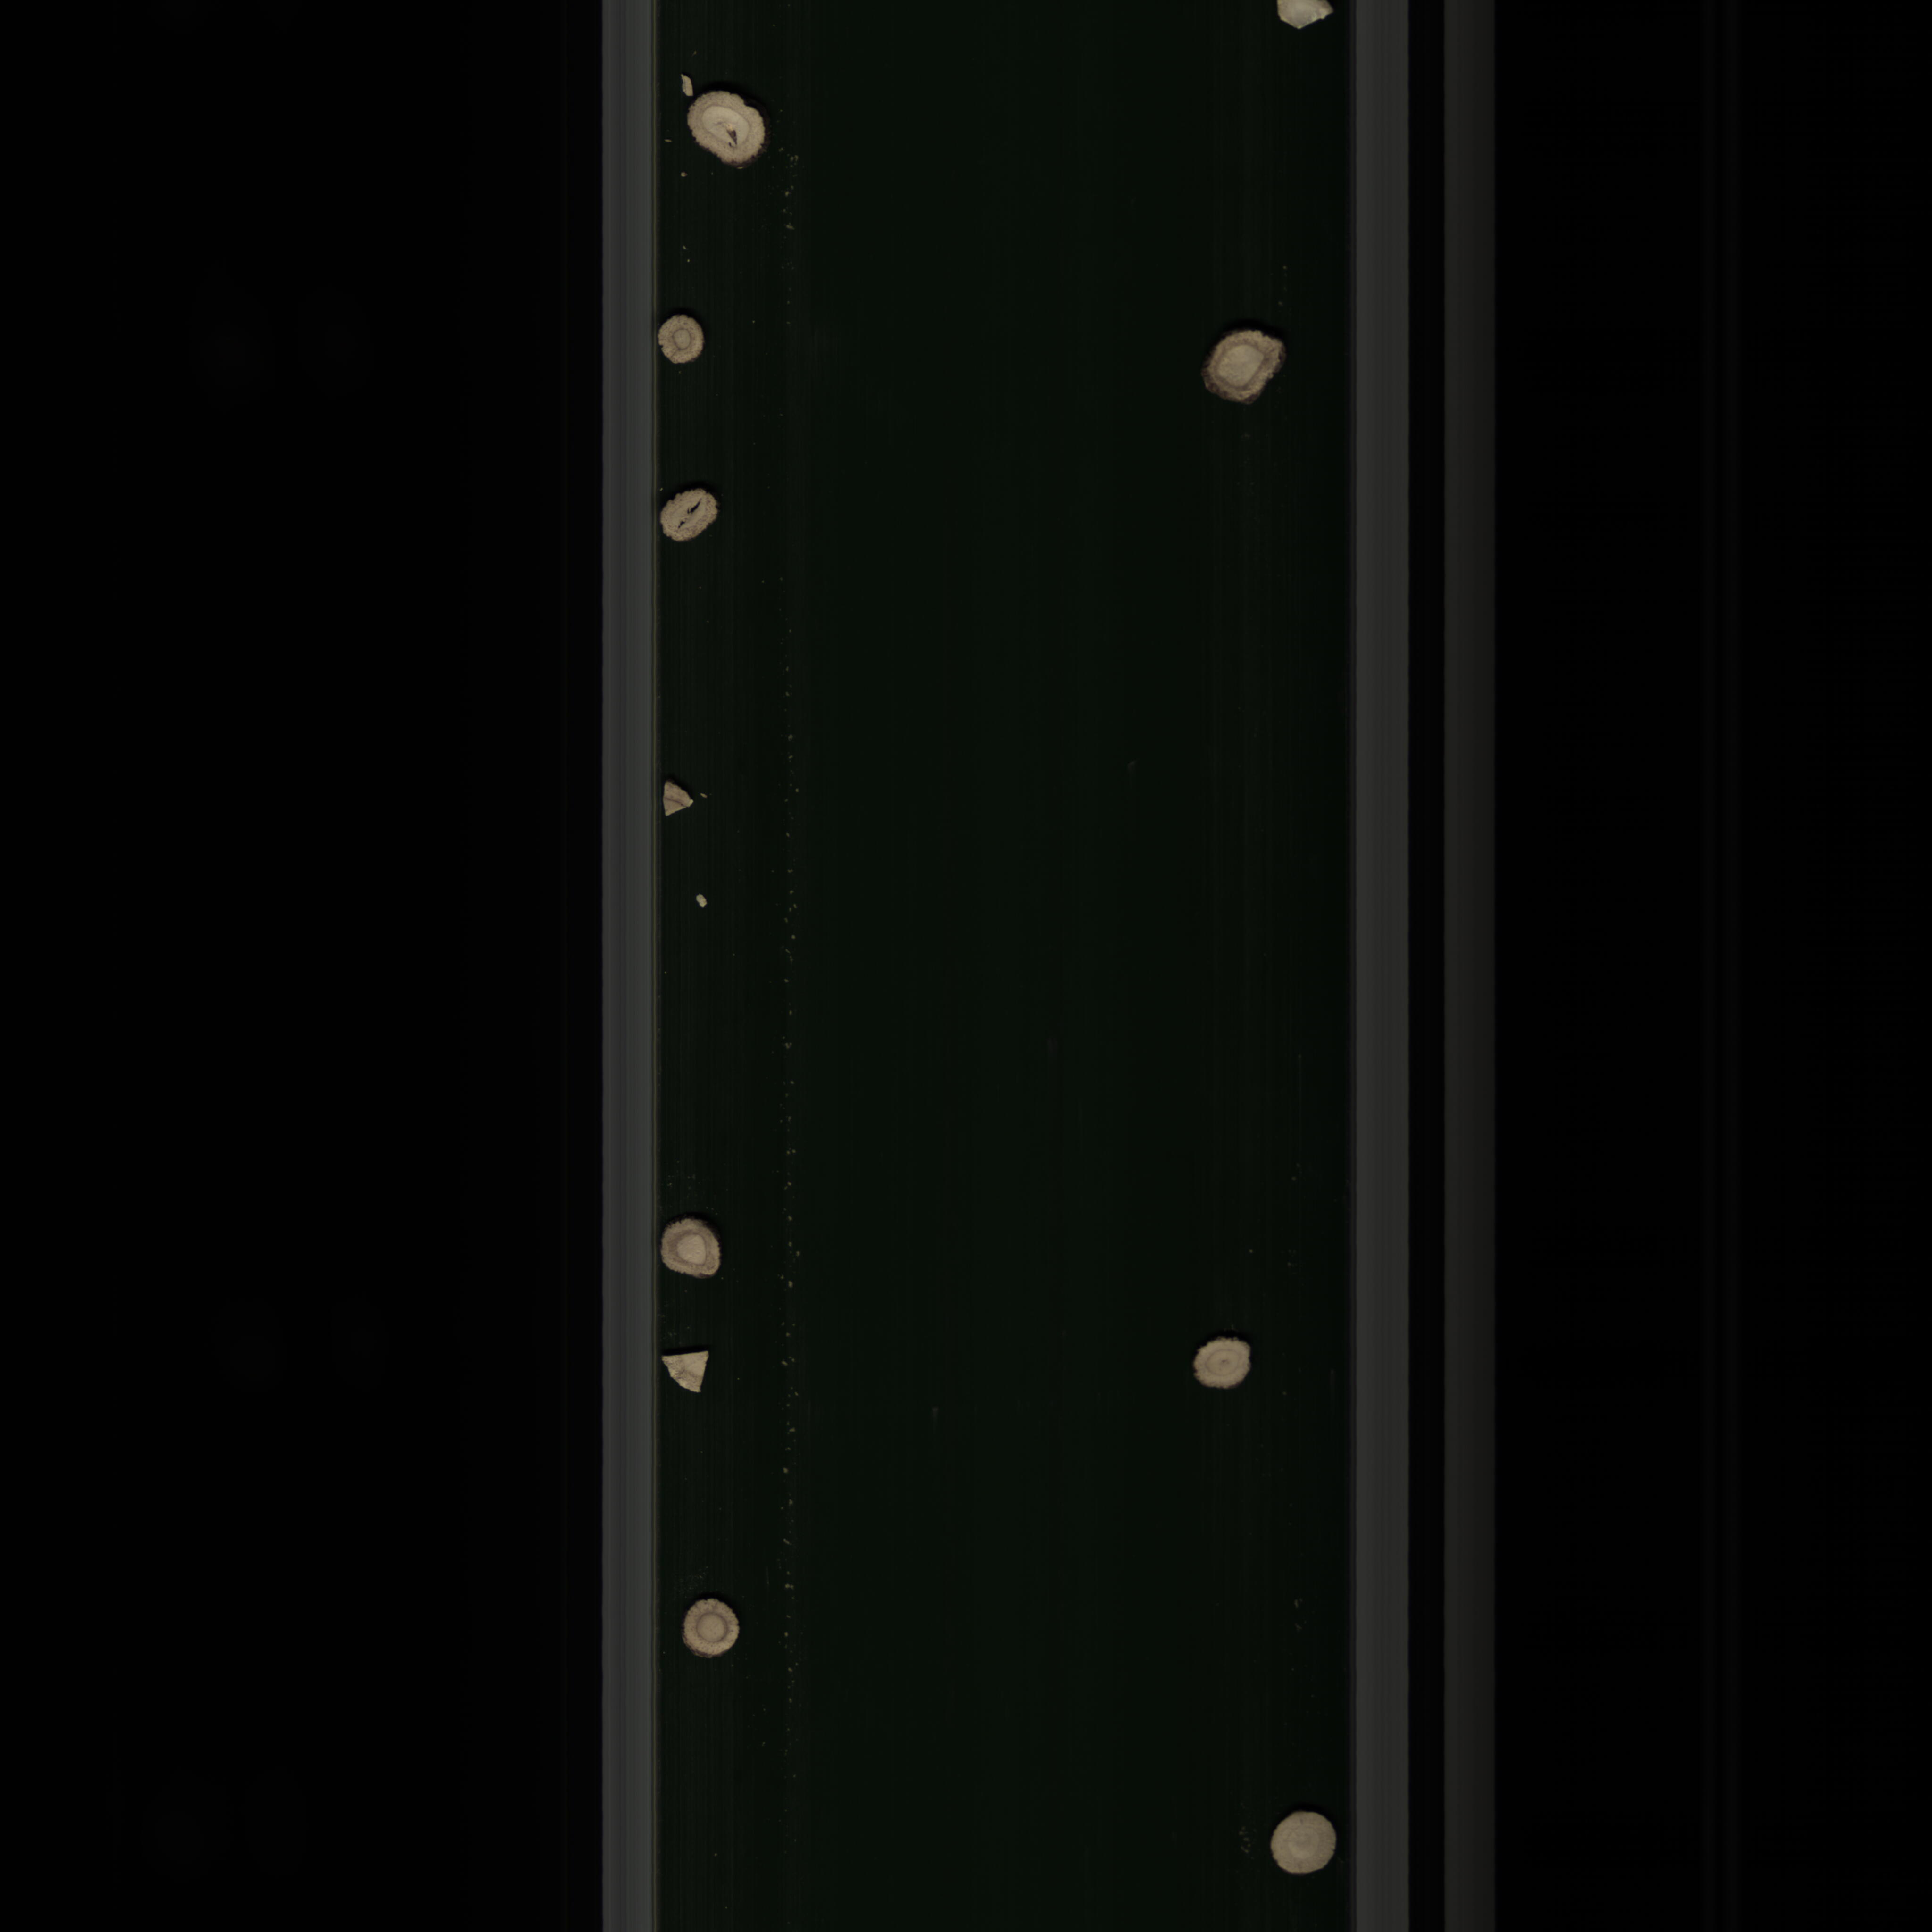debris: (660, 1345, 718, 1401), (660, 777, 695, 826)
hole: (685, 83, 770, 168), (662, 481, 724, 547)
moldy: (1192, 322, 1288, 410)
